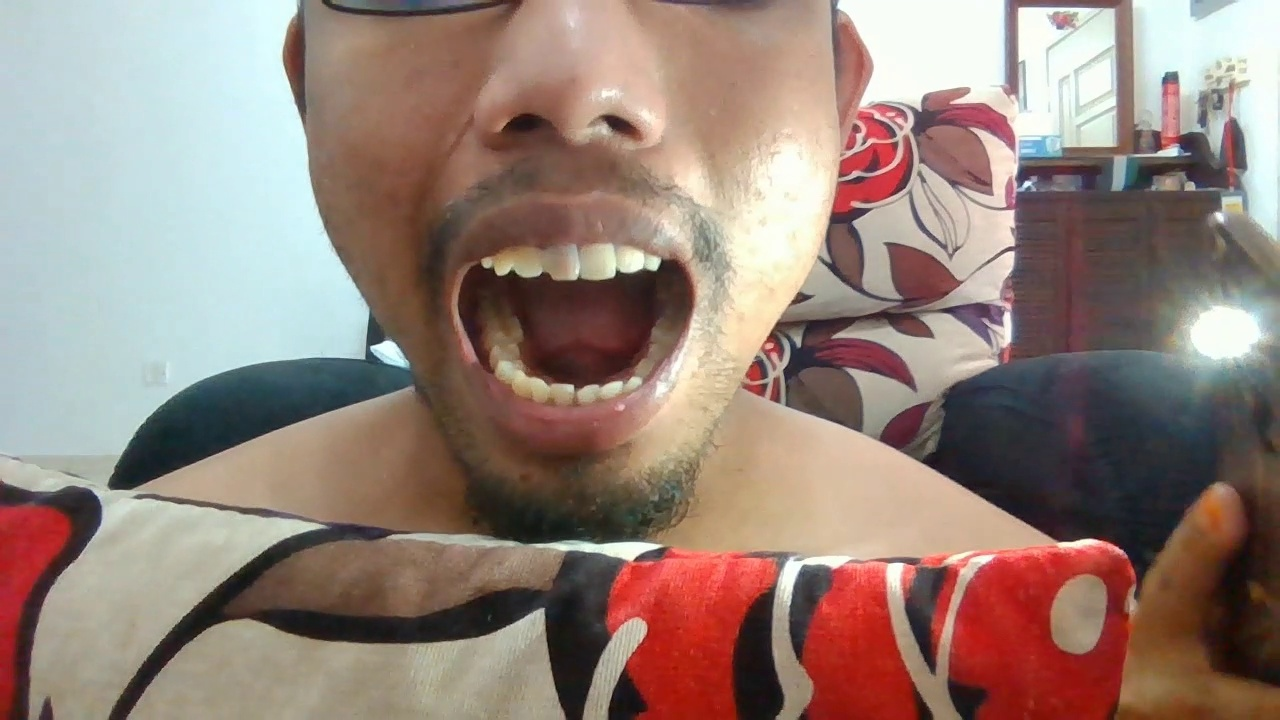1st Molar: (480, 317, 524, 343), (650, 316, 687, 340)
1st Premolar: (494, 362, 525, 381), (634, 358, 658, 376), (481, 254, 494, 269)
2nd Molar: (476, 300, 513, 319)
2nd Premolar: (487, 344, 520, 364), (647, 341, 675, 360)
3rd Molar: (477, 285, 509, 302)
Canine: (494, 246, 515, 276), (513, 377, 531, 397), (624, 375, 642, 395), (645, 252, 663, 271)
Central Incisor: (580, 241, 617, 280), (544, 244, 580, 282), (549, 382, 575, 407), (575, 383, 601, 405)
Lateral Incisor: (514, 245, 544, 277), (616, 243, 645, 274), (528, 377, 549, 405), (601, 379, 623, 400)
